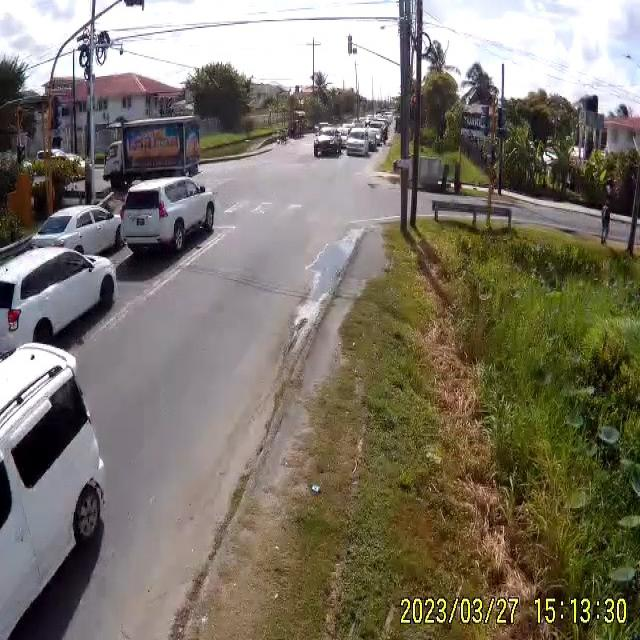car: (1, 241, 118, 365), (119, 177, 218, 258), (33, 205, 121, 255), (313, 134, 342, 158), (342, 133, 368, 155)
person: (600, 201, 612, 243)
truck: (104, 116, 202, 195)
